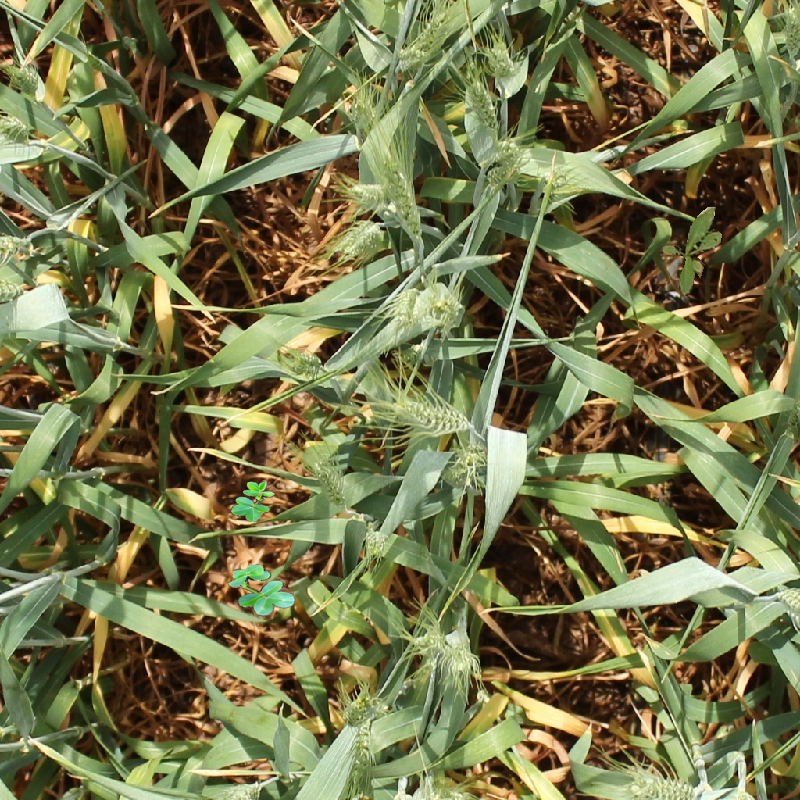spikelet: (379, 150, 423, 239), (390, 393, 473, 434), (410, 3, 453, 59), (330, 218, 386, 260), (417, 283, 464, 332), (483, 137, 529, 186), (625, 772, 702, 800), (444, 443, 489, 489), (462, 78, 499, 133), (3, 57, 47, 101), (481, 41, 523, 87), (309, 459, 349, 506), (340, 690, 387, 729), (345, 179, 395, 211), (352, 729, 374, 800), (772, 1, 799, 57), (283, 348, 327, 382), (342, 95, 379, 135), (1, 231, 39, 267), (426, 775, 480, 800), (390, 284, 420, 326), (210, 778, 265, 800), (1, 111, 32, 145), (774, 584, 799, 620), (394, 45, 426, 72), (362, 528, 390, 558), (1, 274, 26, 305)
weed: (663, 207, 722, 296), (228, 564, 296, 616), (231, 481, 275, 522)
